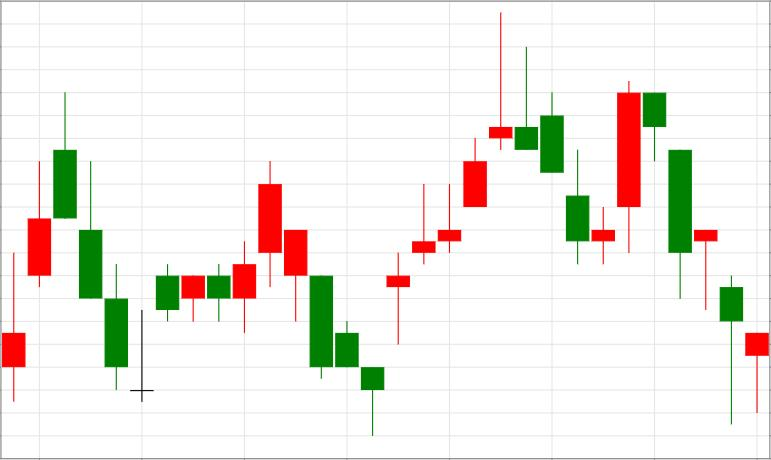hammer_rise: (643, 93, 769, 424), (258, 163, 384, 436)
three_black_crows_fall: (2, 91, 128, 402)
